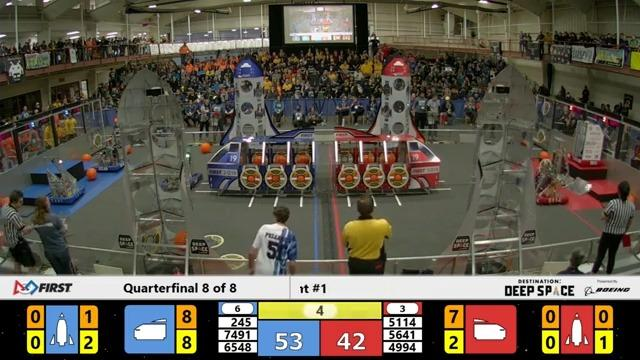robot: (521, 150, 571, 210), (570, 114, 611, 170), (87, 128, 128, 177), (40, 166, 88, 205)
